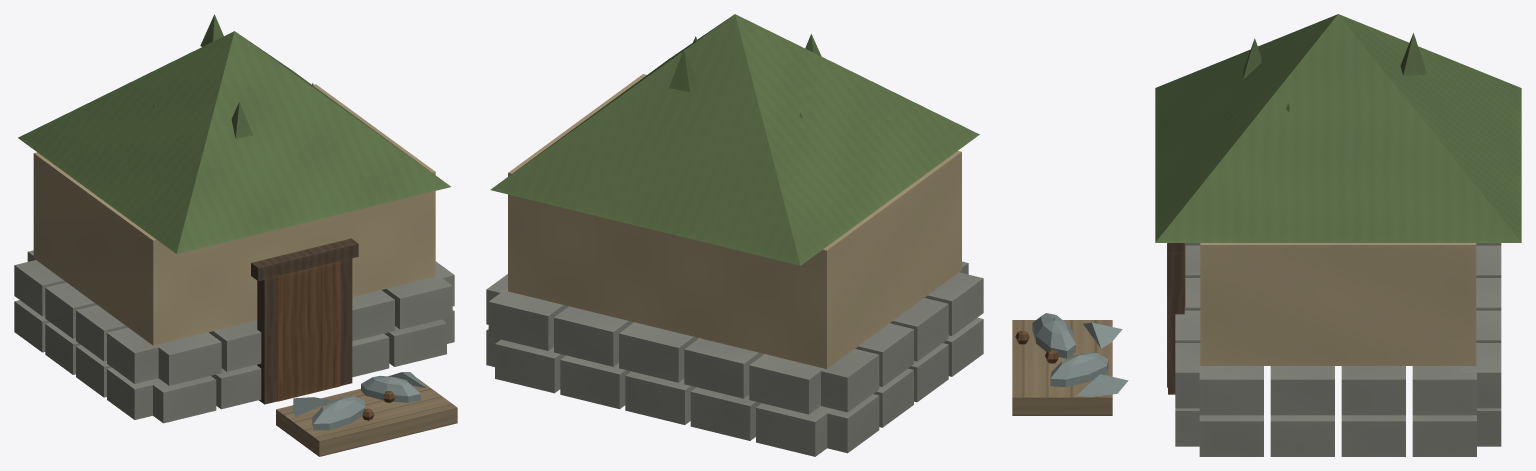
The model's file is turf-roof-on-stone.glb.
3 renders of one model, left to right at view 1: azimuth 30°, elevation 25°; view 2: azimuth 150°, elevation 25°; view 3: azimuth 270°, elevation 25°, orthographic. The views are drawn at different scales.
Visible parts, largest first — view 1: turf-roof-on-stone; view 2: turf-roof-on-stone; view 3: turf-roof-on-stone.
Part boxes in pixels (x1=…): turf-roof-on-stone: x1=14, y1=14, x2=457, y2=456; turf-roof-on-stone: x1=486, y1=14, x2=983, y2=456; turf-roof-on-stone: x1=1012, y1=14, x2=1521, y2=456.
Bounding box in the file's own units: 0.51 × 0.47 × 0.6092.
1 material, 1 textured.
